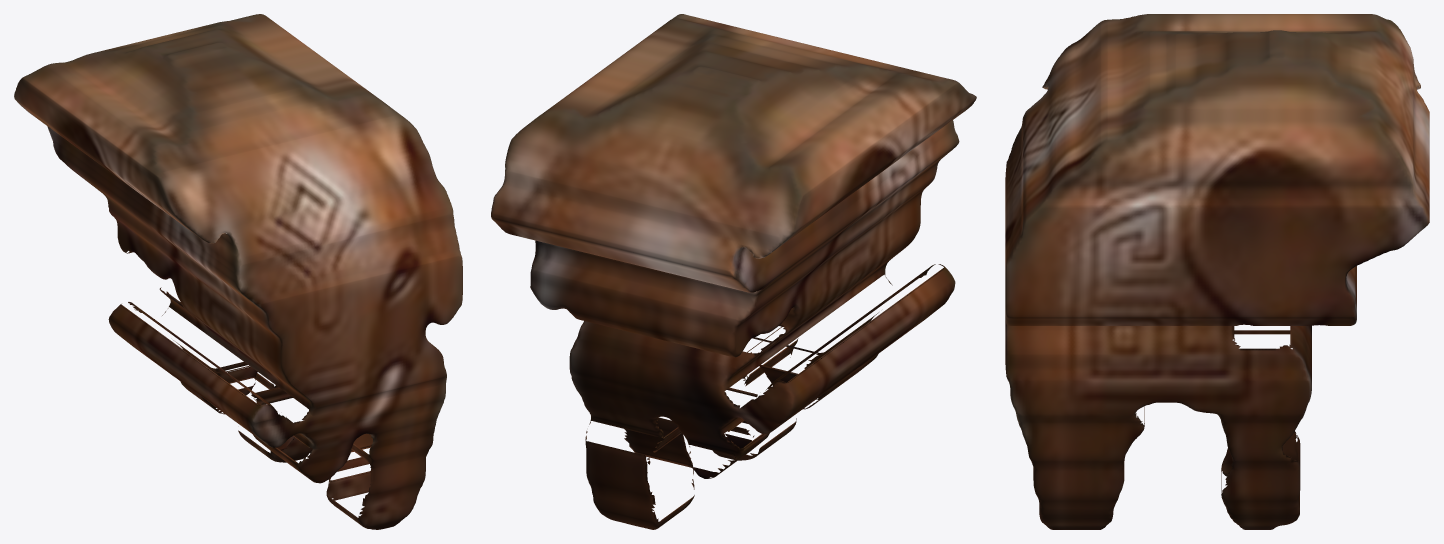
3 renders of one model, left to right at view 1: azimuth 30°, elevation 25°; view 2: azimuth 150°, elevation 25°; view 3: azimuth 270°, elevation 25°, orthographic. The views are drawn at different scales.
Visible parts, largest first — view 1: vhull-X1; view 2: vhull-X1; view 3: vhull-X1.
Boxes of the visible parts, <box> form: vhull-X1: <box>14,14,462,529</box>; vhull-X1: <box>491,14,976,529</box>; vhull-X1: <box>1005,14,1429,529</box>.
Bounding box in the file's own units: 1.68 × 2.59 × 2.26.
